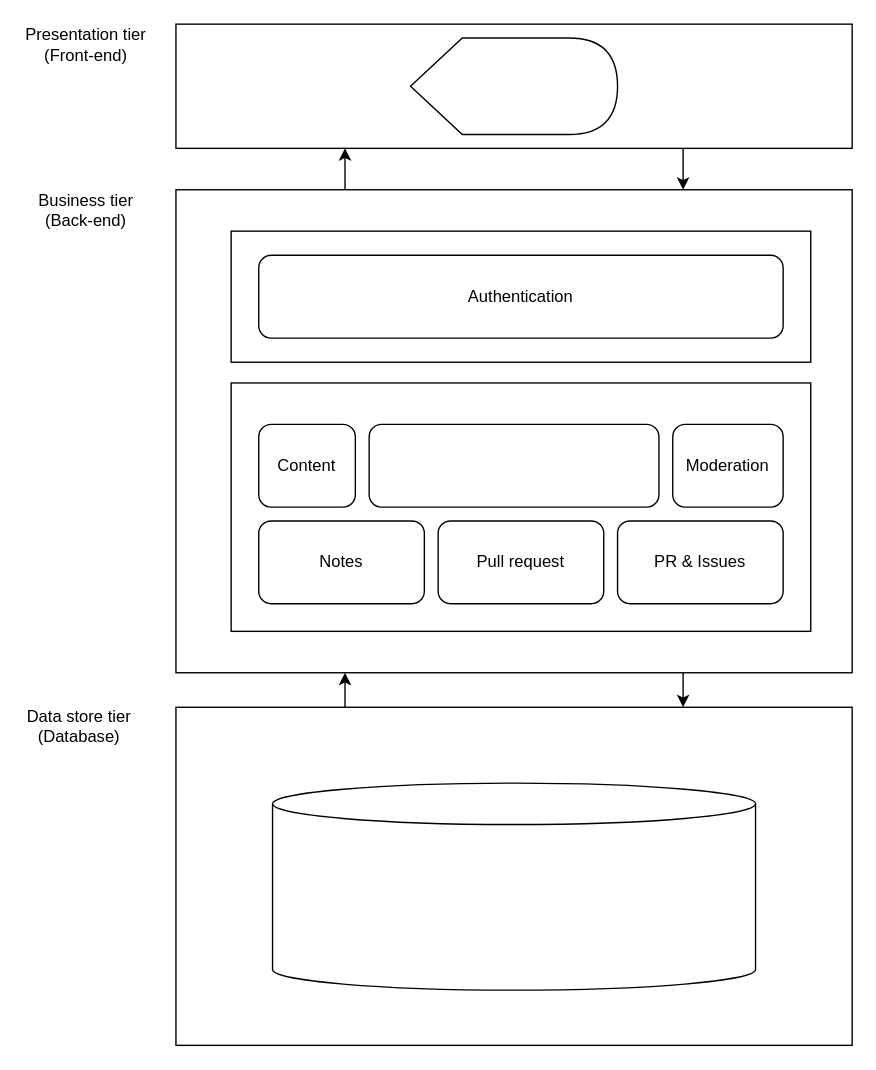
The diagram is 876 pixels wide and 1070 high, and some of its shapes have lost their labels. Here are the shapes that lost their labels. From the top down, the centre of each, then its label:
At pixel 513 86: "Web application".
At pixel 513 465: "Article".
At pixel 513 886: "Centralized datastore".
